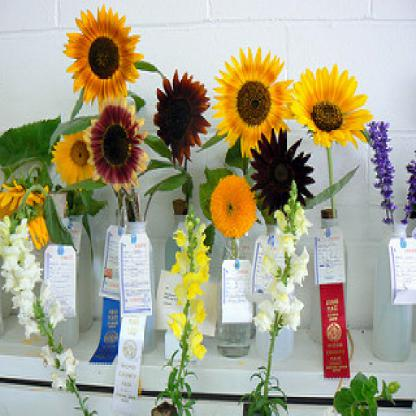SUN FLOWER: (29, 3, 389, 252)
